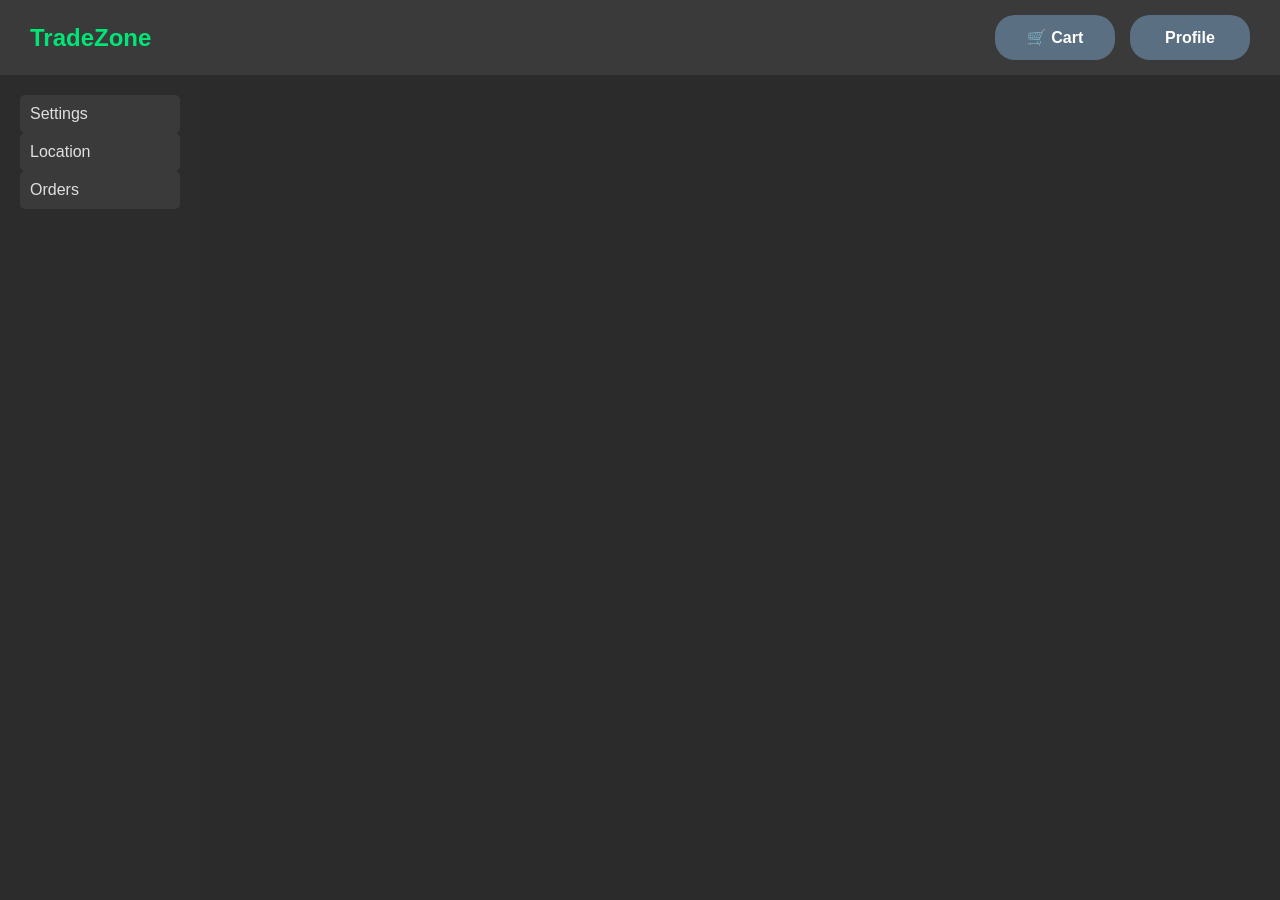
Test: PaymentMethodSettings Component › HomePage Component › opens and closes the location modal
Click the link "Location" at point(100, 152), box [20,133,180,171]
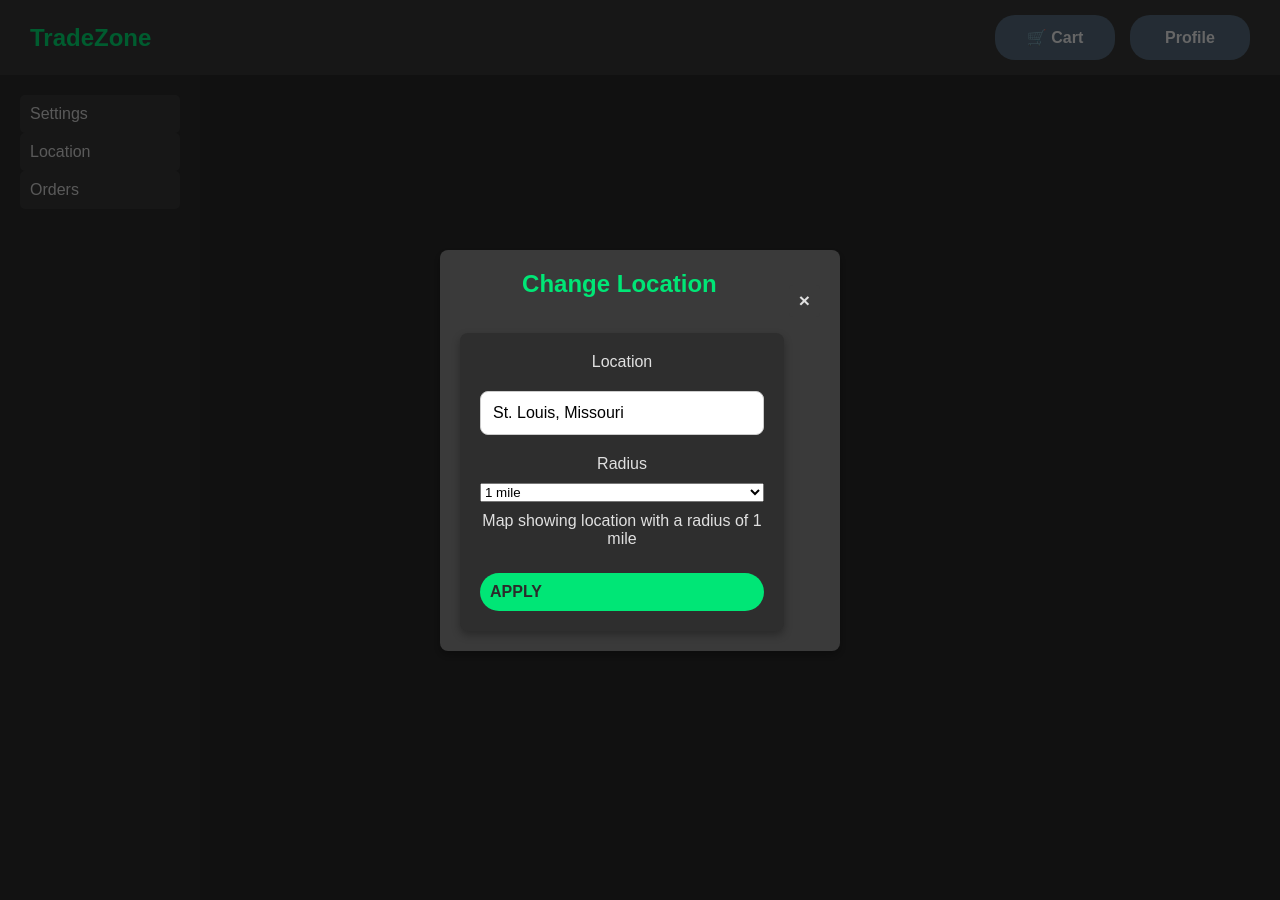
Result: the heading "Change Location" is shown at [522,270,717,296]
Click the button "×" at point(804, 301), box [789,285,820,317]
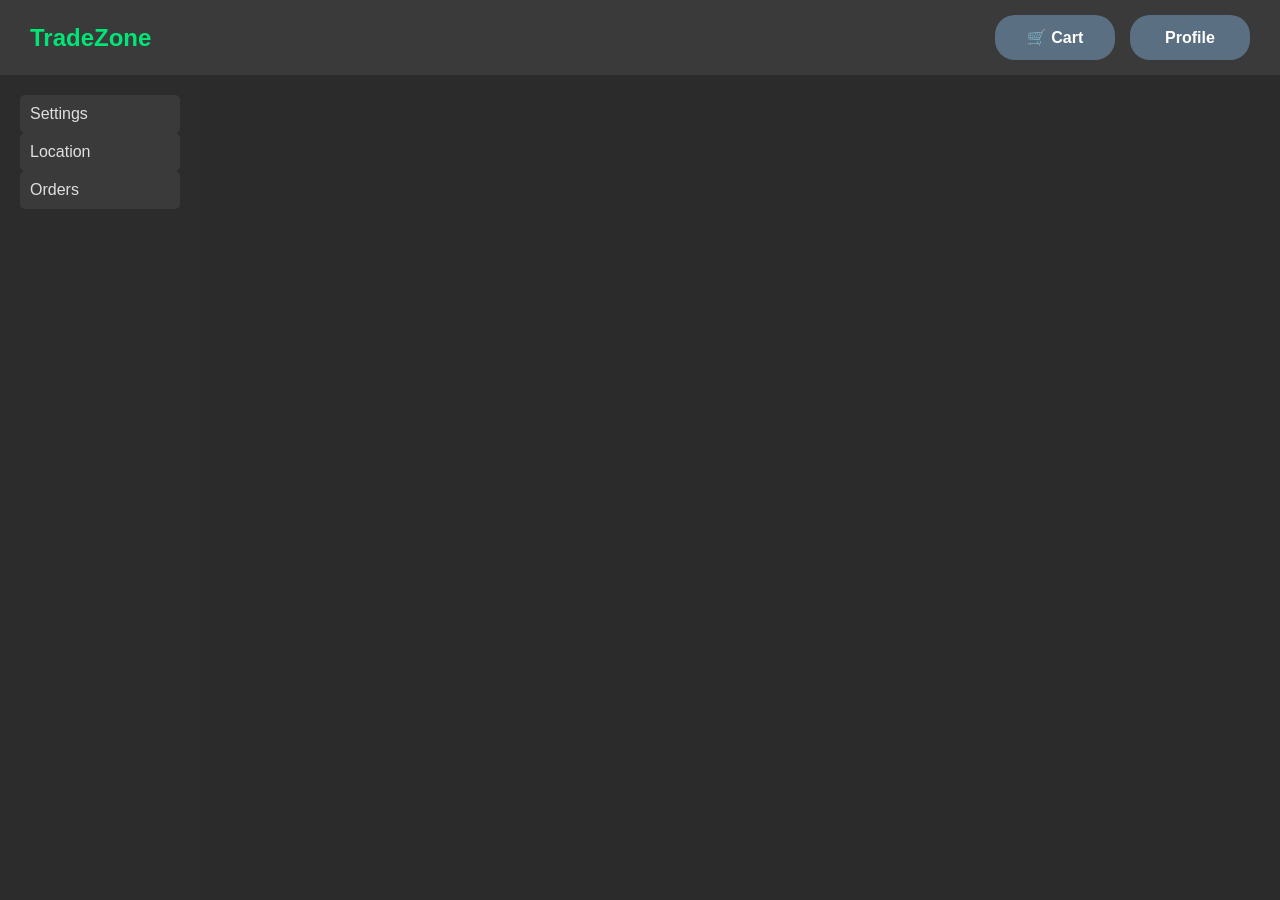
Result: the heading "Change Location" is gone
